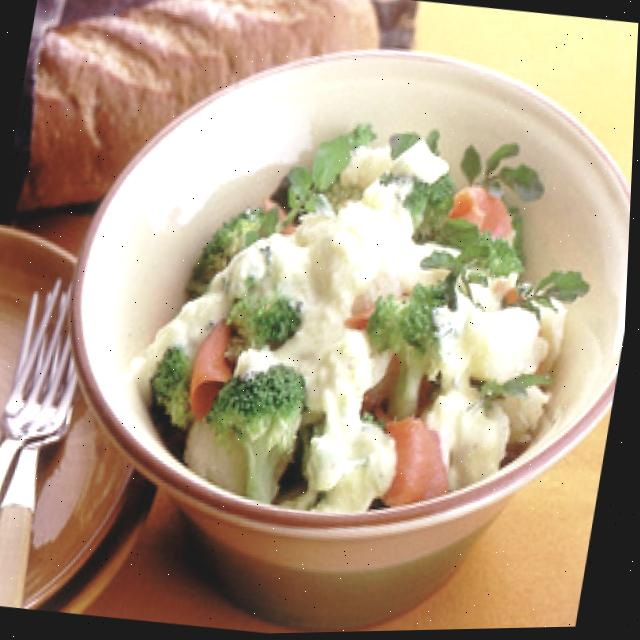蔬菜料理: (20, 0, 640, 639)
